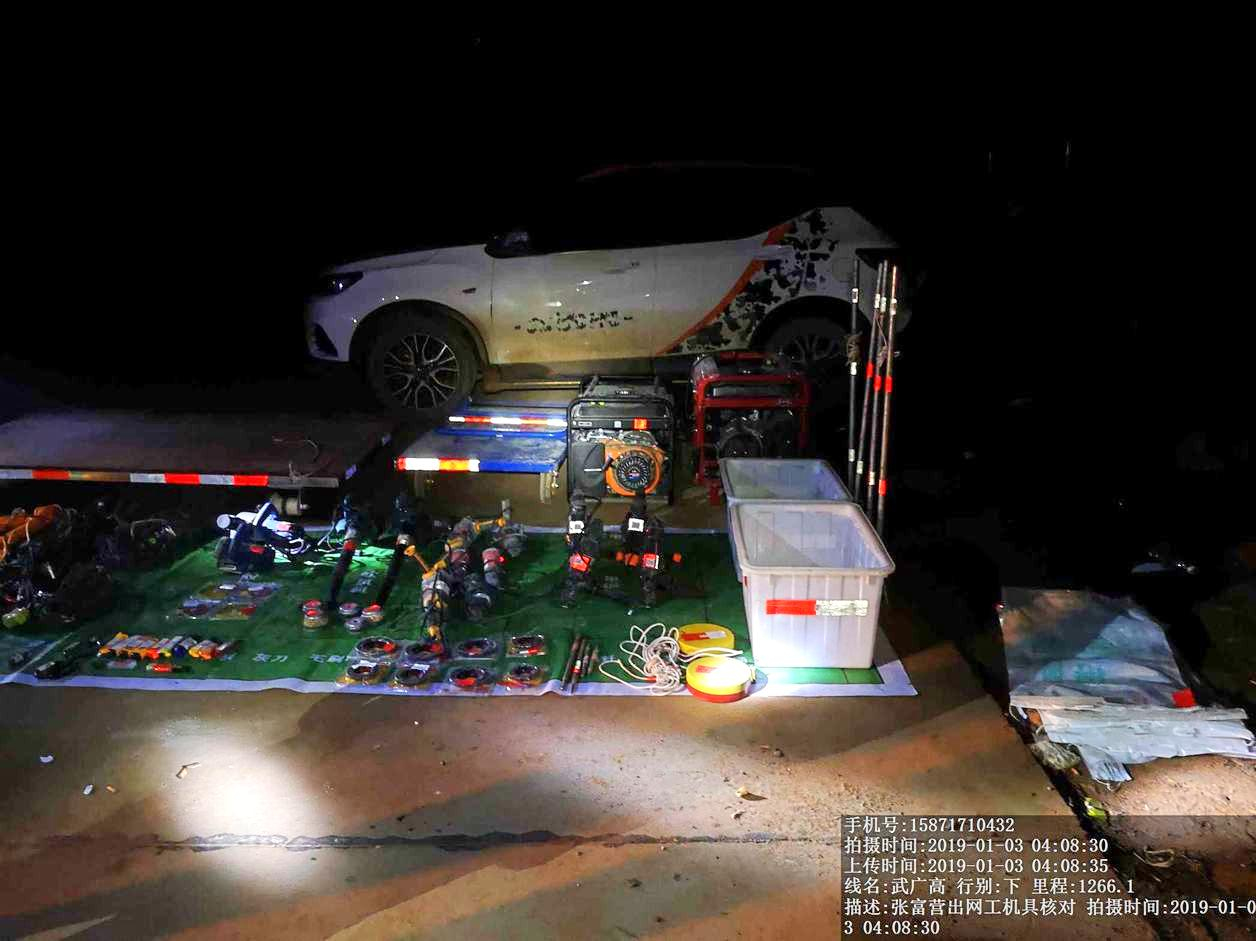BZD: (1000, 576, 1256, 776)
DZ: (404, 543, 462, 616), (464, 550, 515, 626)
FDJ: (561, 369, 701, 507), (686, 342, 835, 447)
GFJ: (317, 489, 391, 605)
JC: (680, 653, 762, 703), (671, 616, 747, 658)
T: (727, 496, 898, 673), (709, 448, 850, 502)
TC: (388, 384, 569, 500)
